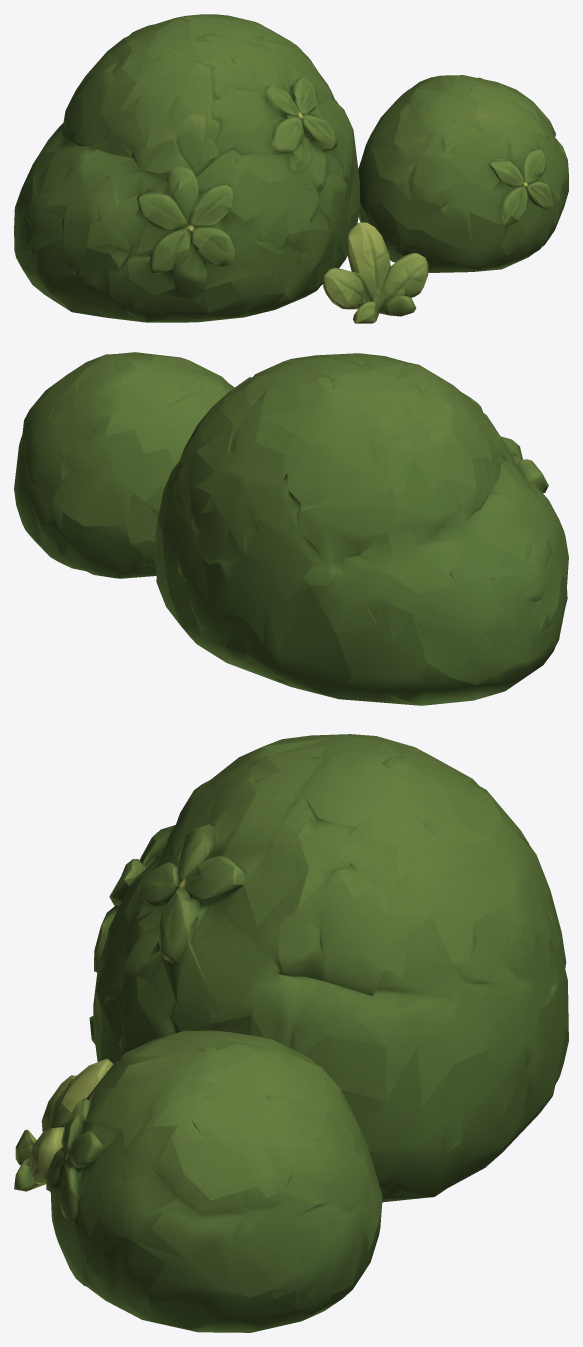
File: forest-hills.glb
3 views of the same model, one above another, from view 1: azimuth 30°, elevation 25°; view 2: azimuth 150°, elevation 25°; view 3: azimuth 270°, elevation 25° (orthographic). The views are drawn at different scales.
Bounding box in the file's own units: 1.9 × 0.8779 × 1.23.
1 material, 1 textured.
